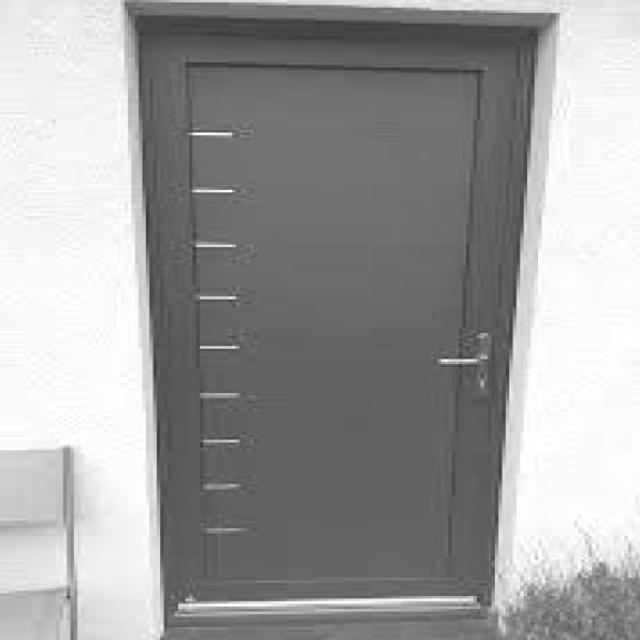door: (142, 15, 516, 608)
